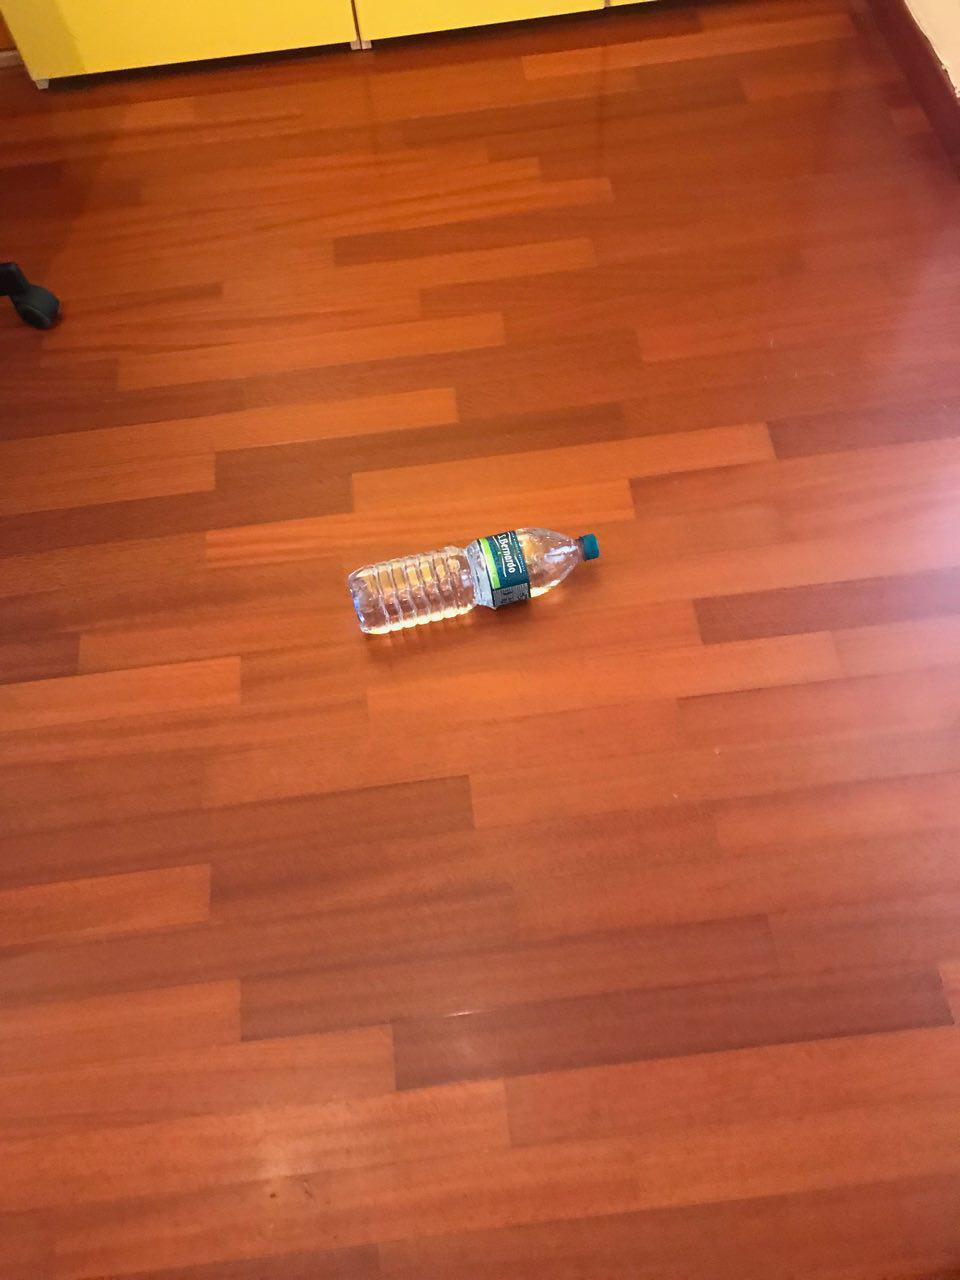san_bernardo: (346, 526, 601, 636)
